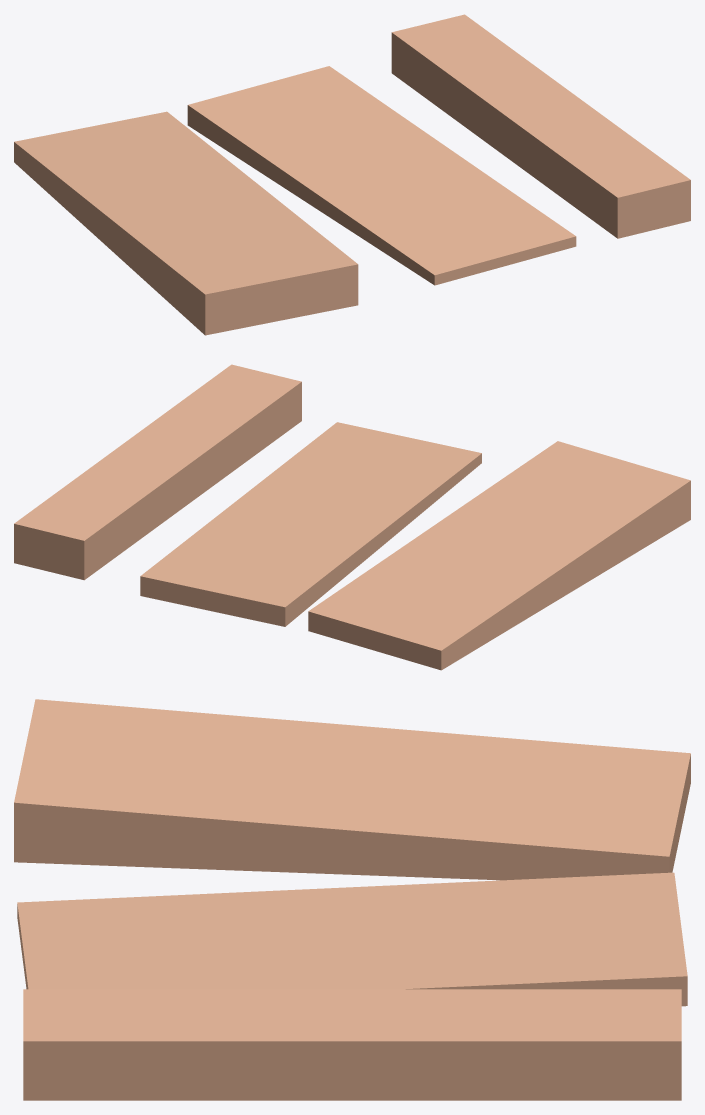
Rendered from path_woodEnd.glb.
The picture shows the model from 3 angles, top to bottom: view 1: azimuth 30°, elevation 25°; view 2: azimuth 150°, elevation 25°; view 3: azimuth 270°, elevation 25°; orthographic projection. The views are drawn at different scales.
Visible parts, largest first — view 1: path_woodEnd; view 2: path_woodEnd; view 3: path_woodEnd.
Part boxes in pixels (box(x1,y1,x2,y2)): path_woodEnd: box(14, 14, 690, 335); path_woodEnd: box(14, 364, 690, 670); path_woodEnd: box(14, 699, 690, 1100).
Bounding box in the file's own units: 0.6148 × 0.05 × 0.5144.
